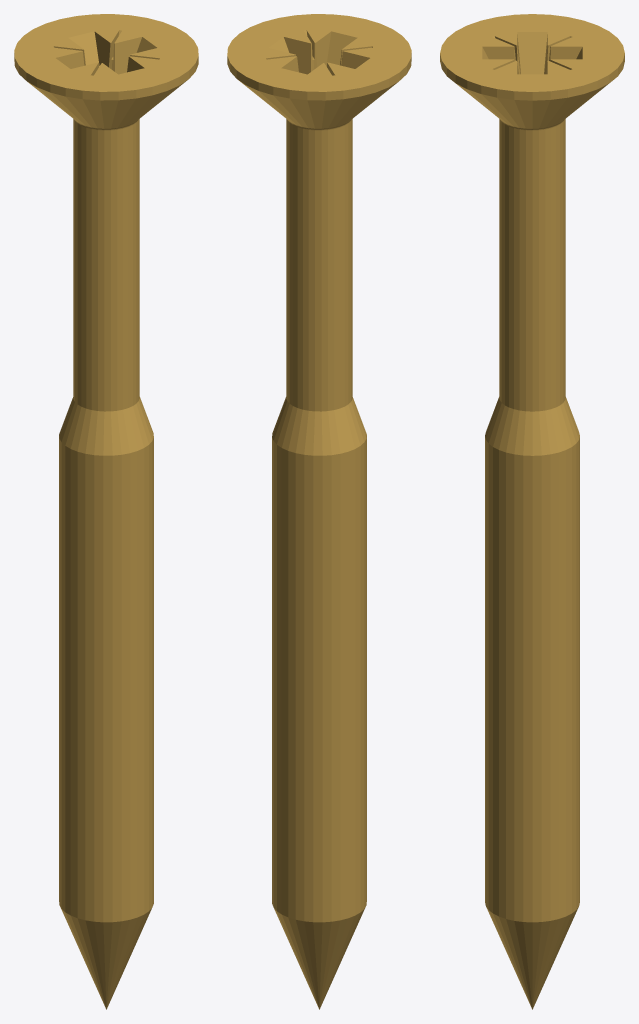
Rendered from model_display.glb.
The picture shows the model from 3 angles, left to right: view 1: azimuth 30°, elevation 25°; view 2: azimuth 150°, elevation 25°; view 3: azimuth 270°, elevation 25°; orthographic projection.
Parts seen in each view (by area): view 1: geometry_0; view 2: geometry_0; view 3: geometry_0.
Boxes of the visible parts, box(x1,y1,x2,y2) form: geometry_0: box(14, 14, 198, 1009); geometry_0: box(227, 14, 411, 1009); geometry_0: box(440, 14, 624, 1009).
Bounding box in the file's own units: 0.00875 × 0.05 × 0.00875.
